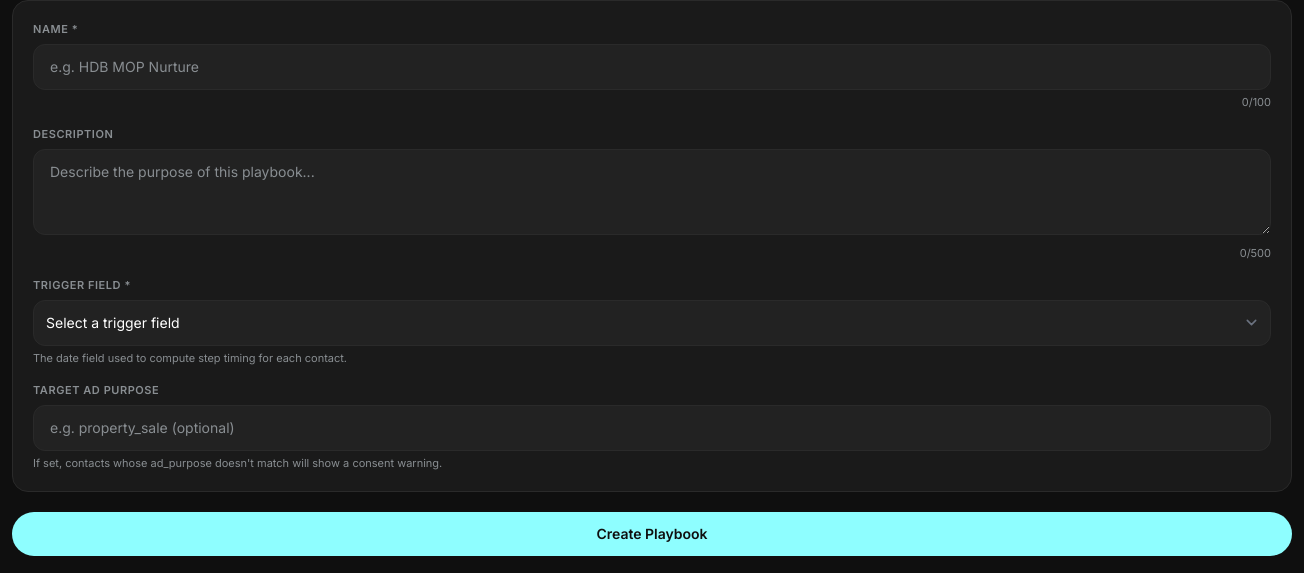
Test case: PlaybookForm › shows character count for name field
The width and height of the screenshot is (1304, 573).
Expected: the text "0/100" is shown, x1=1242 y1=94 x2=1271 y2=110
In the field labelled "Name *": (652, 66) x1=33 y1=44 x2=1271 y2=90, type "Hello"
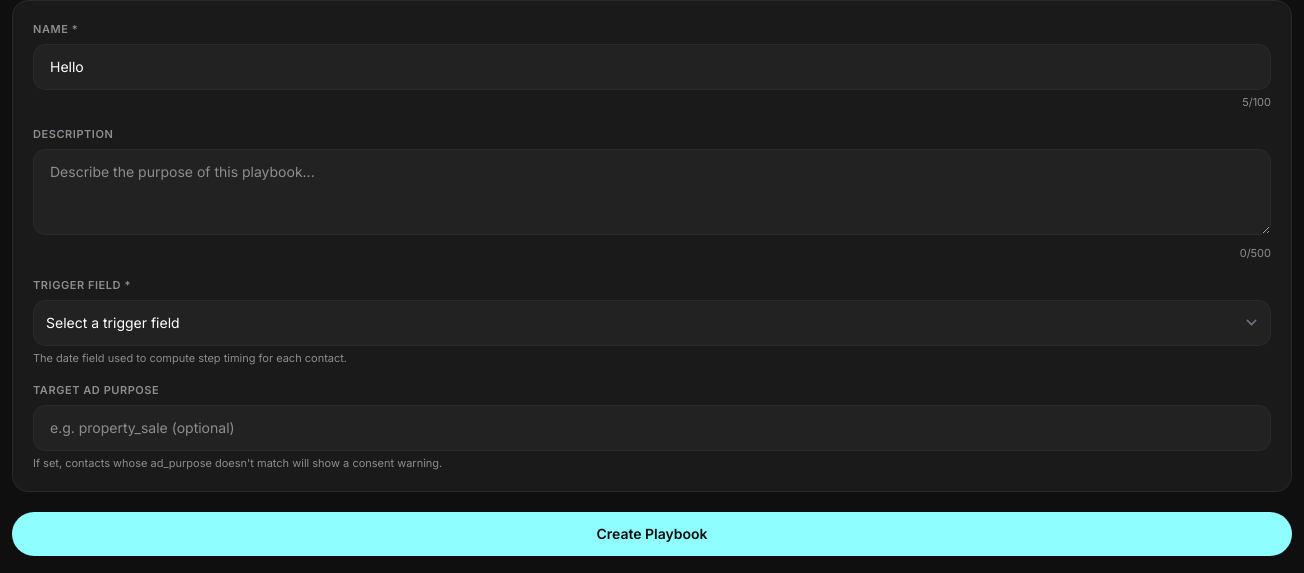
Expected: the text "5/100" is shown, x1=1242 y1=94 x2=1271 y2=110
